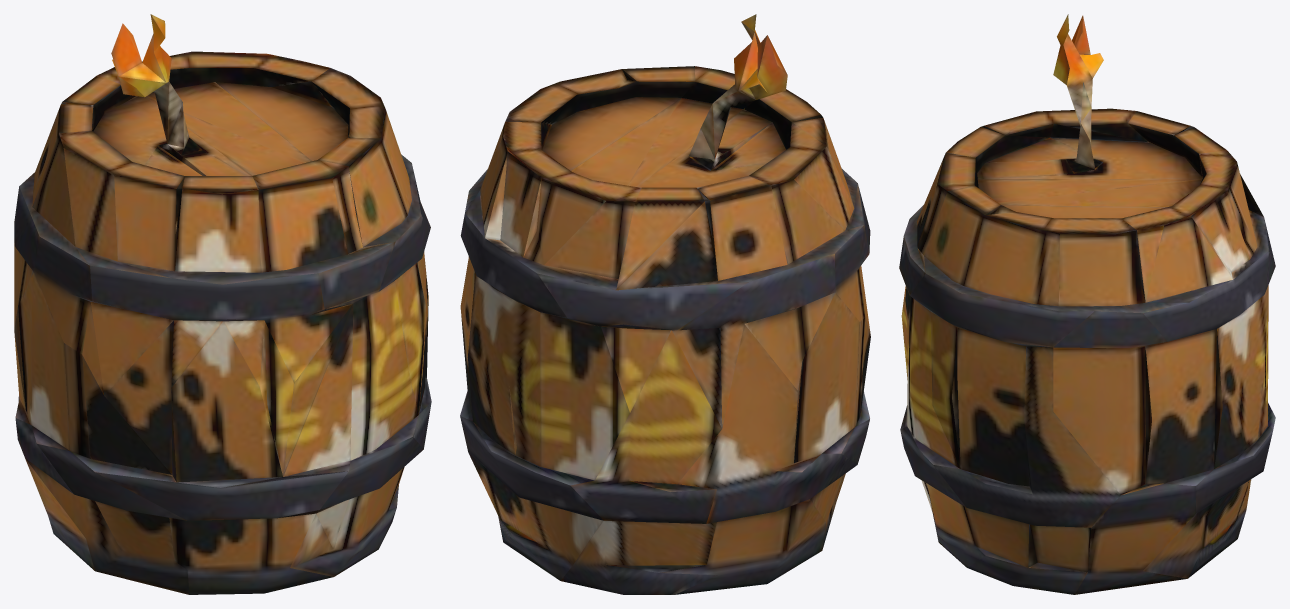
File: barik.glb
3 views of the same model, side by side, from view 1: azimuth 30°, elevation 25°; view 2: azimuth 150°, elevation 25°; view 3: azimuth 270°, elevation 25° (orthographic). The views are drawn at different scales.
Size of the model in its own units: 1.31 by 1.86 by 1.32.
1 material, 1 textured.
